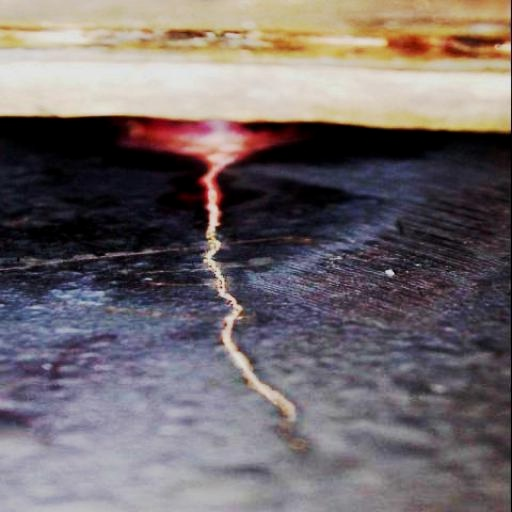crack: (76, 356, 428, 512)
